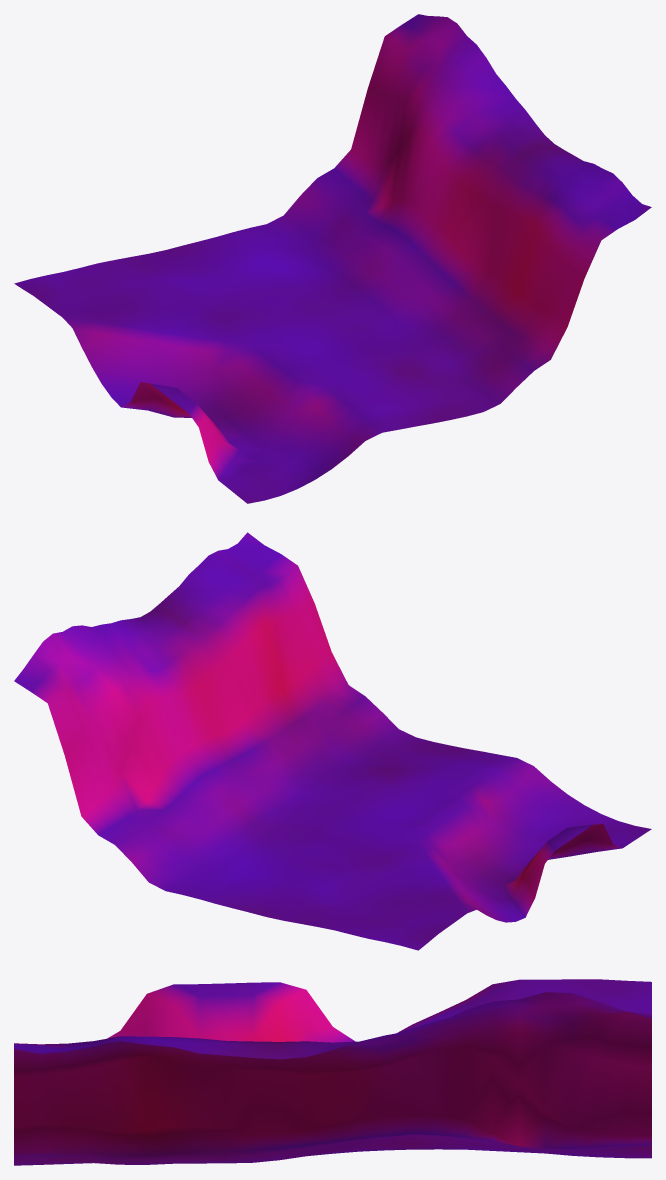
The model's file is ground_15.glb.
3 renders of one model, top to bottom at view 1: azimuth 30°, elevation 25°; view 2: azimuth 150°, elevation 25°; view 3: azimuth 270°, elevation 25°, orthographic. The views are drawn at different scales.
Visible parts, largest first — view 1: Ground_15; view 2: Ground_15; view 3: Ground_15.
Boxes of the visible parts, x1,y1,x2,y2 form: Ground_15: (14,14,651,503); Ground_15: (14,532,651,950); Ground_15: (14,979,651,1165).
Size of what is drawn, in the model's own units: 24 by 13.67 by 24.
